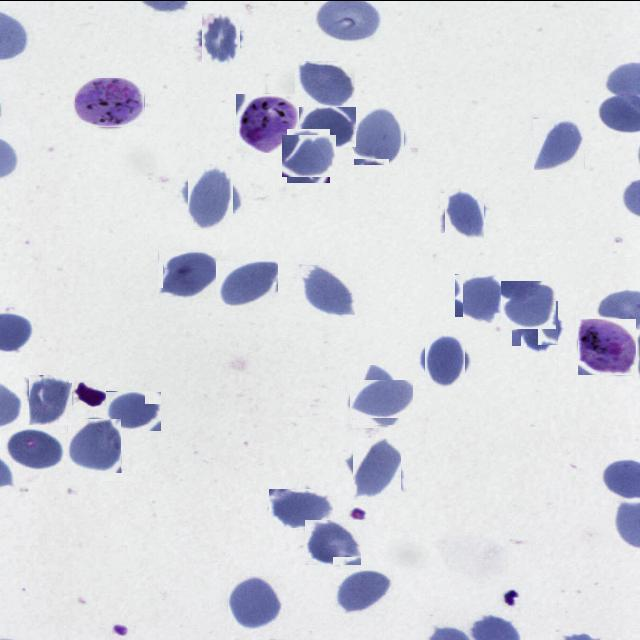difficult: (578, 318, 636, 374)
red blood cell: (350, 366, 408, 424), (182, 168, 238, 224), (227, 575, 283, 630), (349, 440, 404, 496), (158, 249, 222, 297), (68, 418, 122, 472), (352, 109, 407, 162), (216, 260, 278, 306), (295, 60, 355, 106), (301, 264, 356, 314), (455, 273, 510, 322), (333, 569, 394, 613), (501, 280, 556, 328), (305, 518, 362, 564), (4, 427, 64, 470), (534, 118, 584, 168), (269, 488, 333, 527), (350, 378, 414, 417), (284, 131, 332, 179), (299, 106, 356, 146), (106, 390, 162, 430), (422, 336, 468, 383), (27, 376, 74, 422), (198, 15, 244, 61), (516, 304, 562, 349), (442, 190, 488, 234)
trophozoite: (236, 93, 298, 152), (75, 76, 145, 126)
